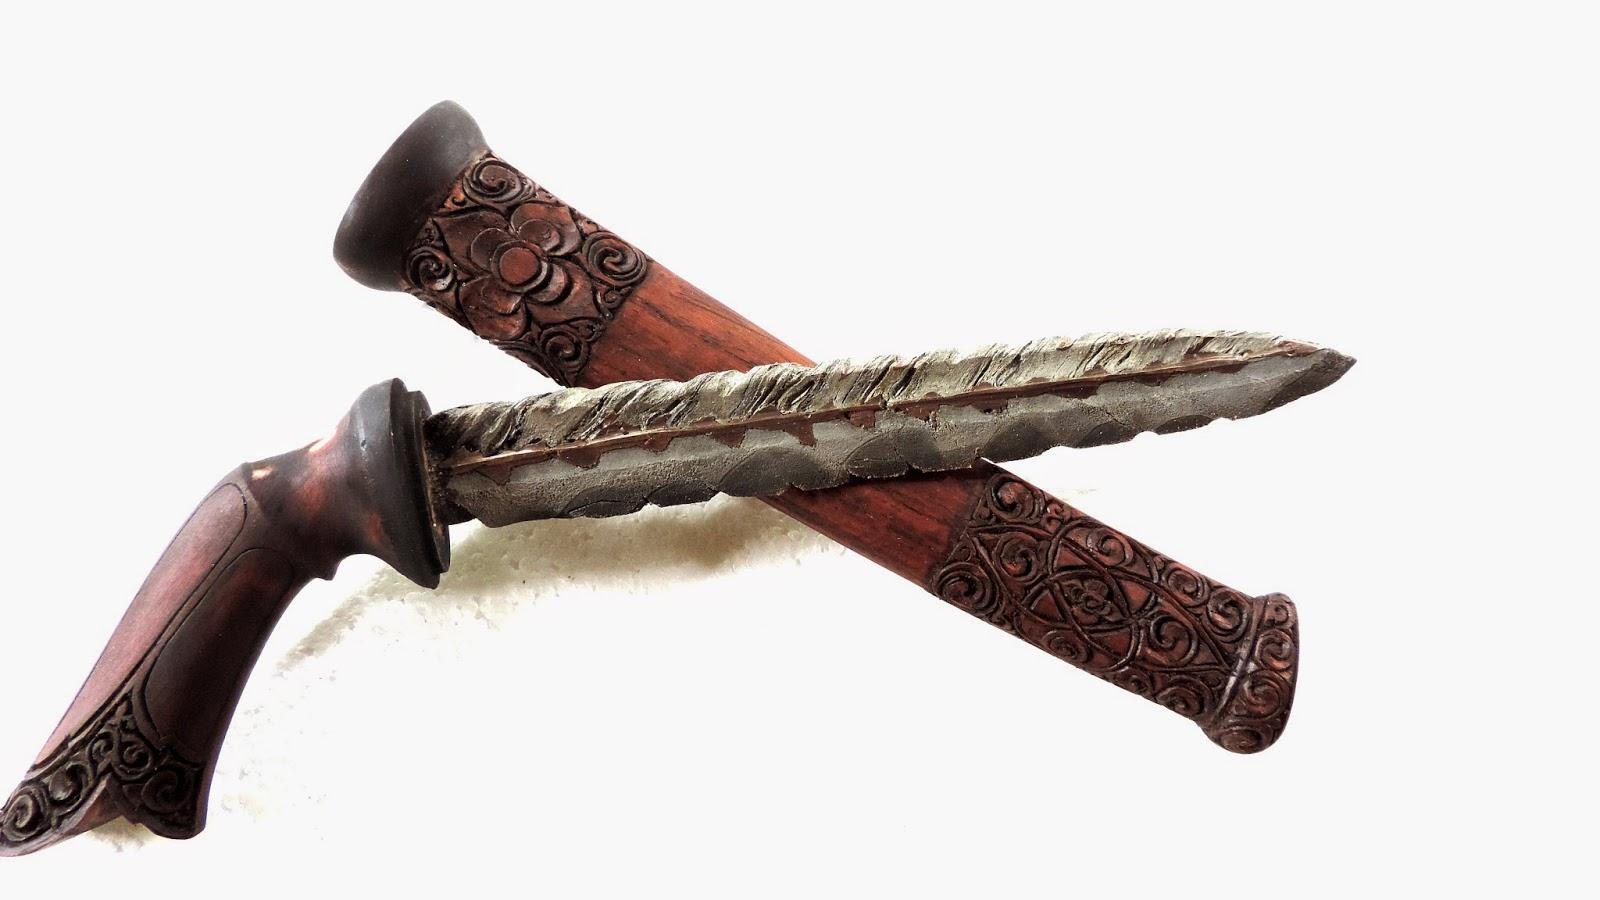facao: (0, 331, 1353, 853)
